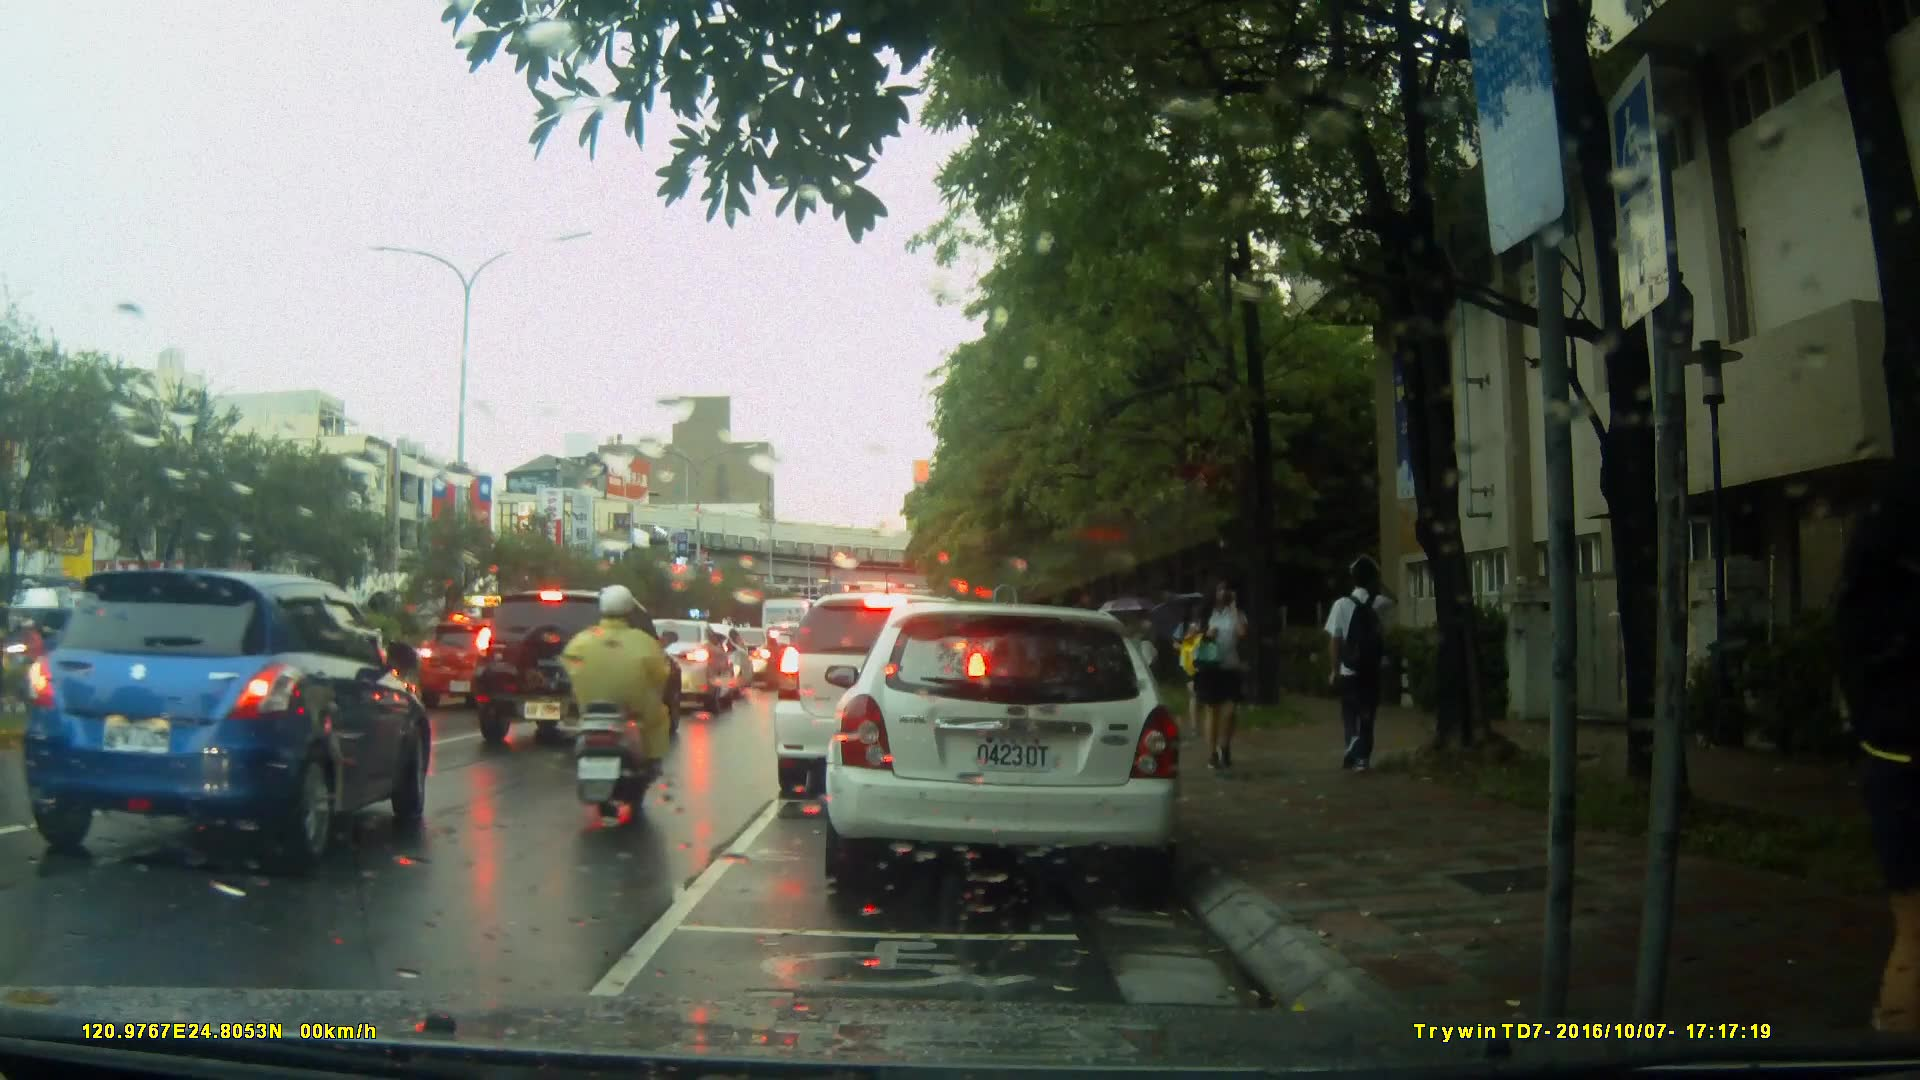pedestrian: (1832, 365, 1920, 1033), (1305, 550, 1410, 789), (1187, 561, 1255, 773), (1166, 588, 1210, 742)
rider: (561, 585, 677, 829)
vehicle: (22, 568, 430, 871), (815, 593, 1203, 905), (771, 590, 995, 802), (471, 588, 682, 748), (408, 614, 553, 710), (615, 618, 739, 715)
